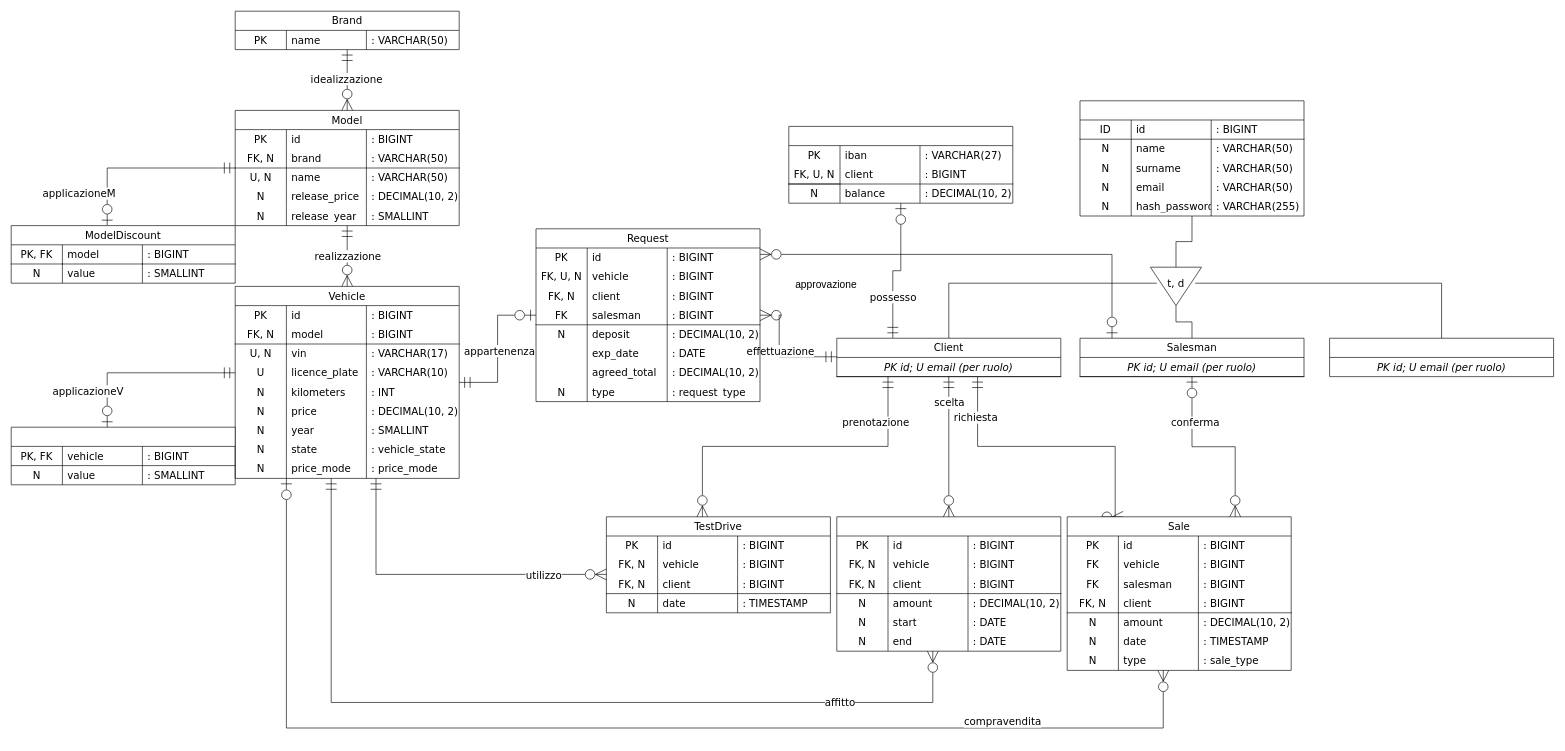
Image size: 1565x751. Some labels were removed from this diagram. Each missing label, with the box of its shape:
BankAccount: (788, 126, 1013, 203)
Manager: (1329, 338, 1554, 377)
Rent: (836, 516, 1061, 651)
User (supertipo concettuale): (1079, 100, 1304, 216)
VehicleDiscount: (11, 427, 235, 485)
